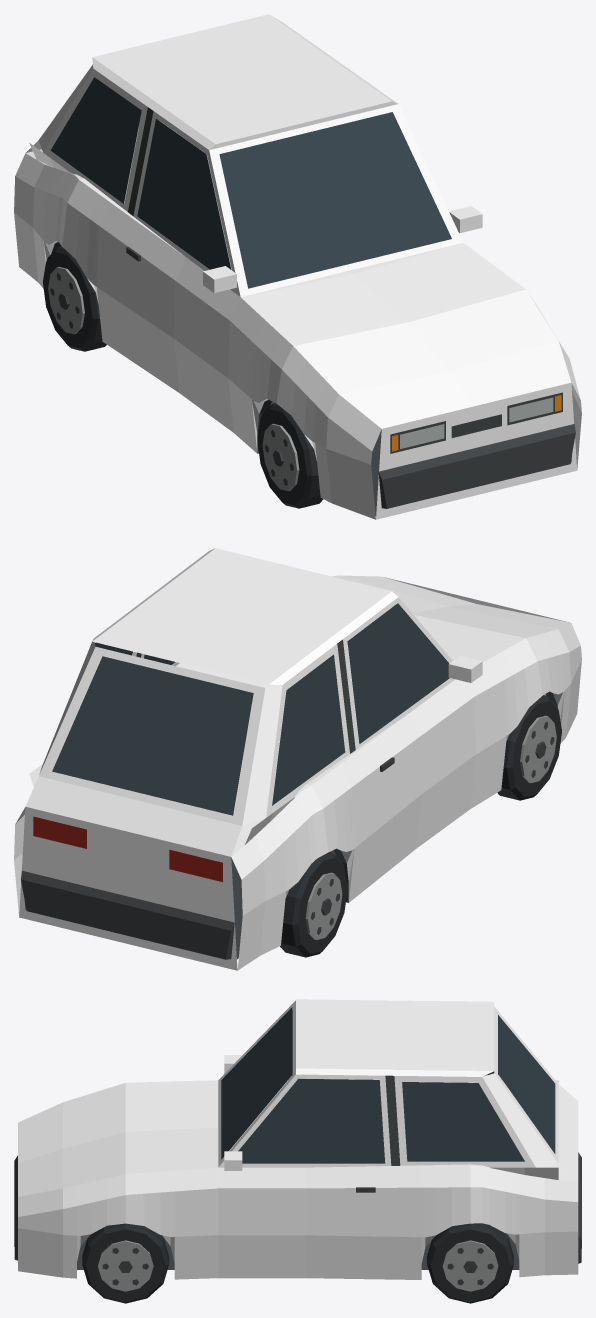
Rendered from saulieu_loriot_gt.glb.
The picture shows the model from 3 angles, top to bottom: view 1: azimuth 30°, elevation 25°; view 2: azimuth 150°, elevation 25°; view 3: azimuth 270°, elevation 25°; orthographic projection. The views are drawn at different scales.
Visible parts, largest first — view 1: saulieu_loriot_gt; view 2: saulieu_loriot_gt; view 3: saulieu_loriot_gt.
Boxes of the visible parts, bbox=[...] form: saulieu_loriot_gt: bbox=[14, 14, 581, 519]; saulieu_loriot_gt: bbox=[14, 548, 581, 970]; saulieu_loriot_gt: bbox=[14, 999, 581, 1303].
Bounding box in the file's own units: 1.65 × 1.62 × 3.77.
Materials: 8 (1 with a texture image).
